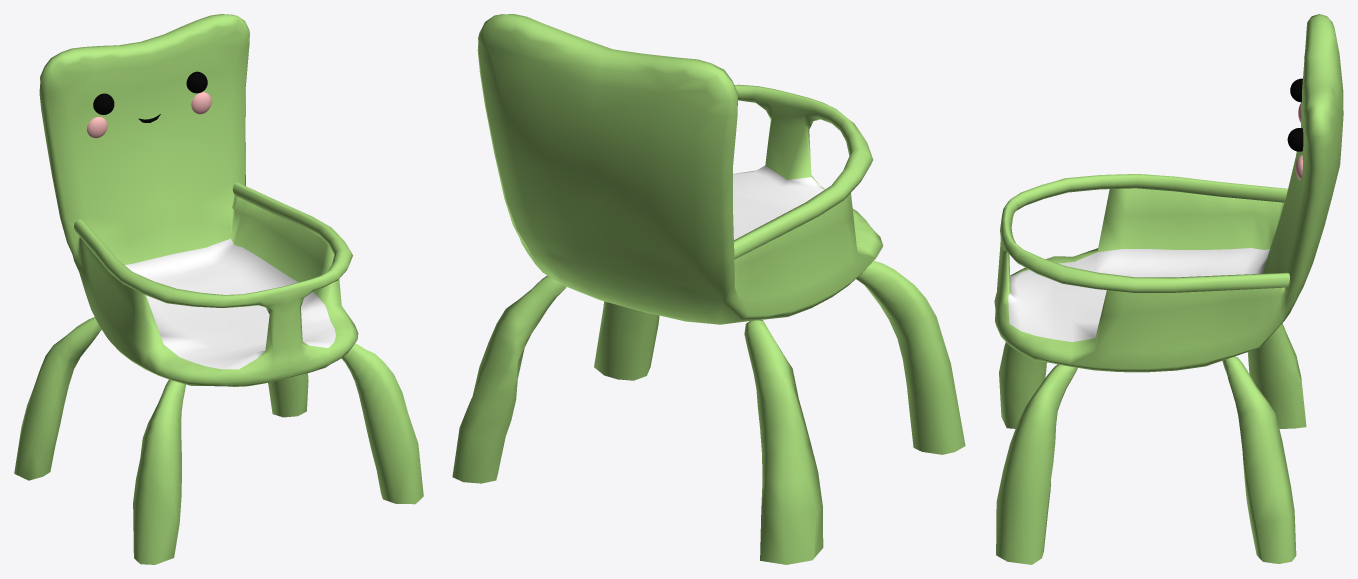
File: Frog_chair3.fbx
3 views of the same model, side by side, from view 1: azimuth 30°, elevation 25°; view 2: azimuth 150°, elevation 25°; view 3: azimuth 270°, elevation 25° (orthographic). The views are drawn at different scales.
Parts seen in each view (by area): view 1: froge chair; view 2: froge chair; view 3: froge chair.
Part boxes in pixels (x1,y1,x2,y2): froge chair: (14, 14, 423, 564); froge chair: (452, 14, 965, 564); froge chair: (994, 14, 1343, 564).
Size of the model in its own units: 1.18 by 1.53 by 1.12.
